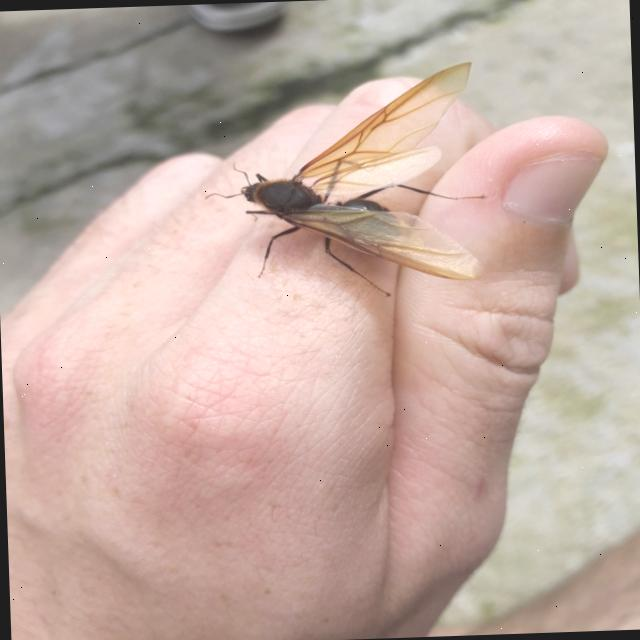Alive-Male-Alate: (199, 60, 489, 304)
